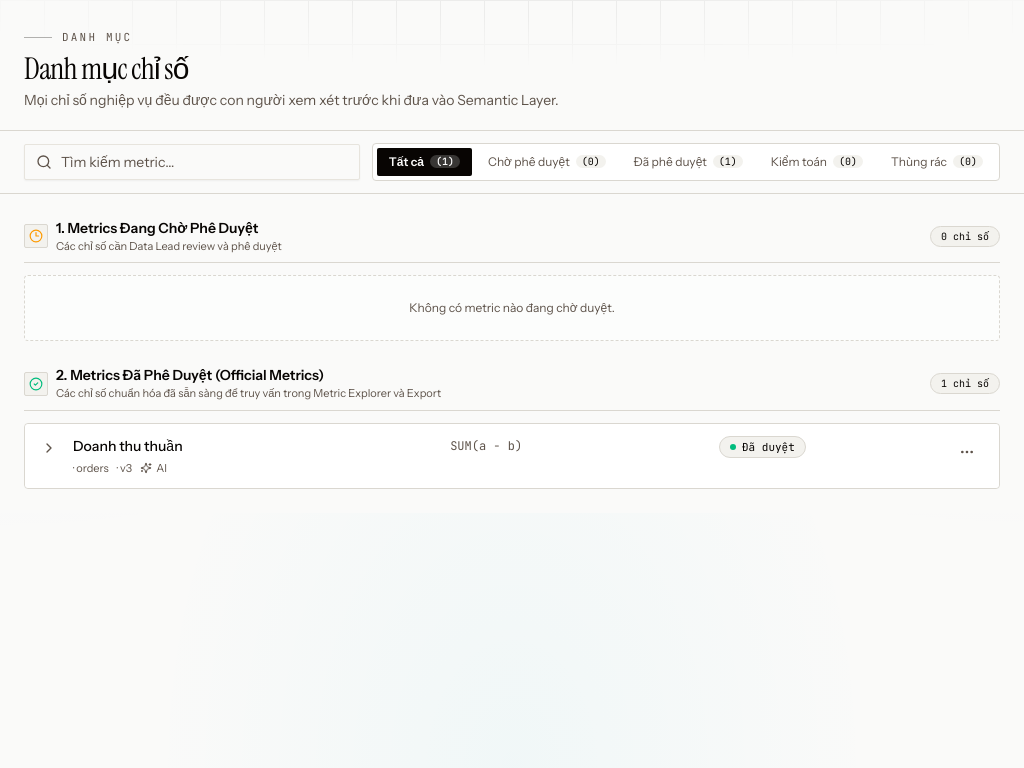
MetricsCatalogView history modal › rejects equal selections instead of rendering an empty diff
The image size is (1024, 768).
Click the heading named "Thao tác với".
click(967, 452)  # box [959,444,975,460]
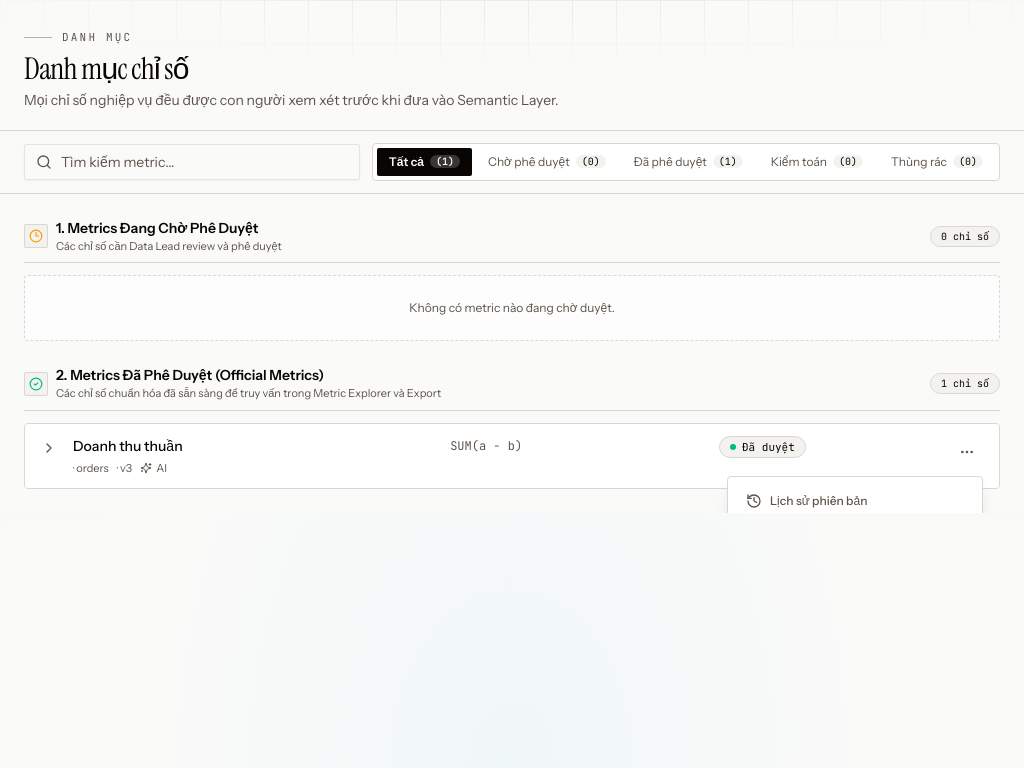
Click the button titled "Xem lịch sử phiên bản".
click(855, 501)  # box [736,485,974,517]
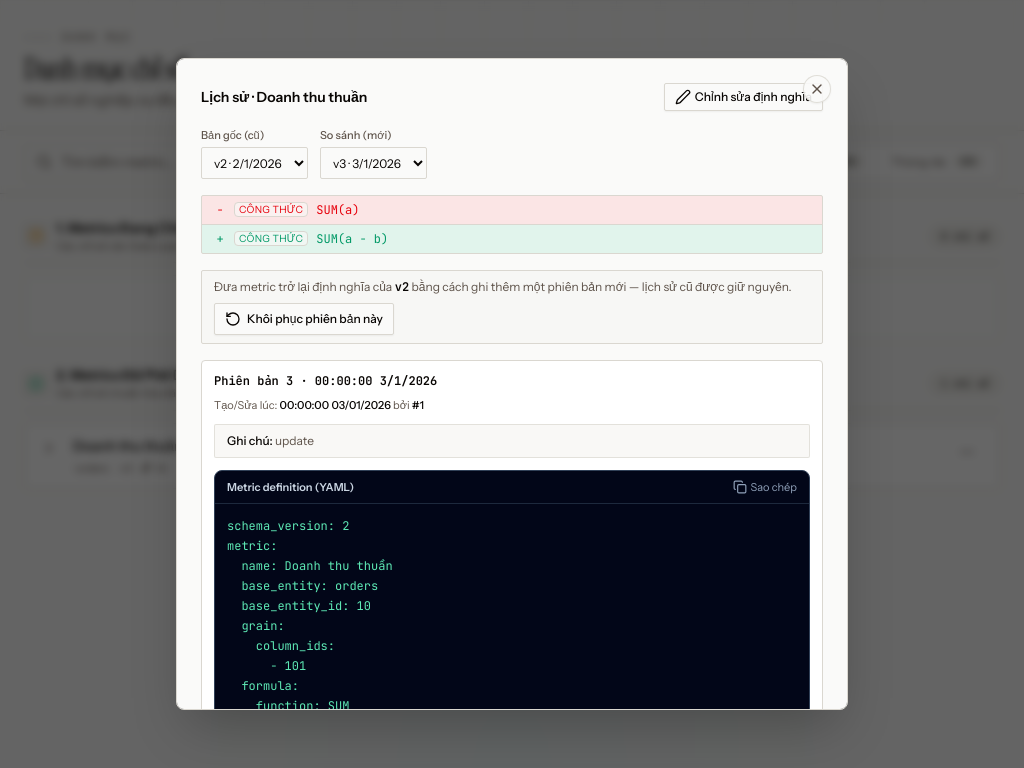
Check: the dialog is shown, box [176,58,848,710]
Select "v3 · 3/1/2026" in the dropdown labelled "Bản gốc (cũ)" at (254, 163), box [201,147,308,179]
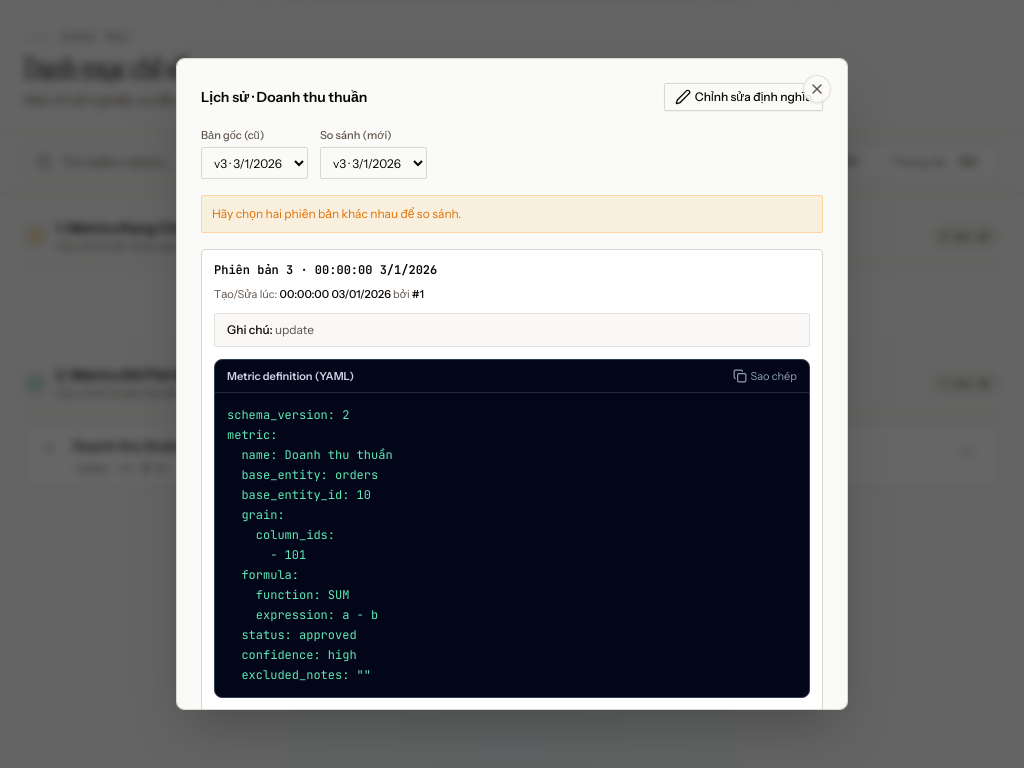
Check: the text "Hãy chọn hai phiên bản khác nhau để so sánh." is shown, box [201,195,823,233]
Check: the list with test id "metric-version-diff" is gone
